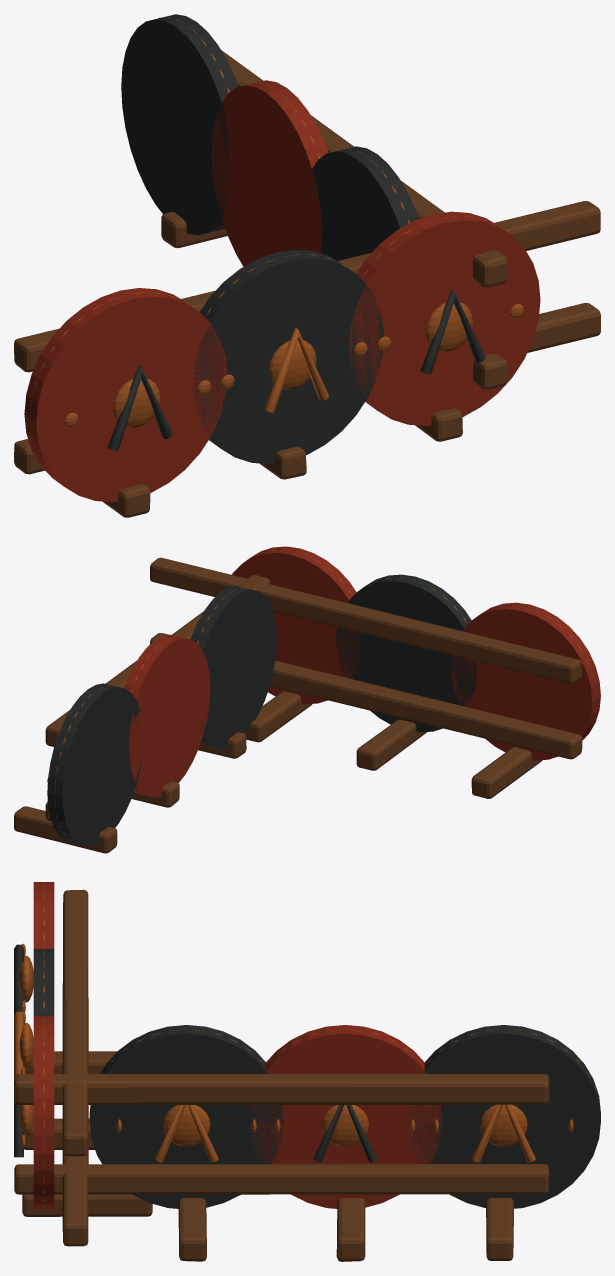
File: shield_barricade_corner_LOD0.glb
3 views of the same model, one above another, from view 1: azimuth 30°, elevation 25°; view 2: azimuth 150°, elevation 25°; view 3: azimuth 270°, elevation 25° (orthographic). The views are drawn at different scales.
Parts seen in each view (by area): view 1: CornerShieldX_ConvexDisk, CornerShieldX_ConvexDisk.001, CornerShieldX_ConvexDisk.002, CornerShieldY_ConvexDisk.002, CornerShieldY_ConvexDisk.001, CornerShieldY_ConvexDisk, CornerRearRailX.001, CornerRearRailX, CornerRearRailY.001, CornerShieldX_Lambda.001, CornerShieldX_Lambda.002, CornerShieldX_Lambda (+8 smaller); view 2: CornerShieldX_ConvexDisk, CornerShieldY_ConvexDisk.002, CornerShieldX_ConvexDisk.001, CornerRearRailX.001, CornerShieldY_ConvexDisk.001, CornerShieldY_ConvexDisk, CornerRearRailX, CornerShieldX_ConvexDisk.002, CornerGroundFoot, CornerGroundFoot.001, CornerGroundFoot.005, CornerGroundFoot.002 (+3 smaller); view 3: CornerShieldY_ConvexDisk.002, CornerShieldY_ConvexDisk, CornerShieldY_ConvexDisk.001, CornerRearRailY.001, CornerRearRailY, CornerRearRailX.001, CornerShieldX_ConvexDisk.002, CornerRearRailX, CornerGroundFoot.002, CornerGroundFoot.004, CornerGroundFoot.003, CornerGroundFoot.005 (+14 smaller).
Part boxes in pixels (x1,y1,x2,y2): CornerShieldX_ConvexDisk: [24, 288, 227, 502]; CornerShieldX_ConvexDisk.001: [193, 249, 383, 463]; CornerShieldX_ConvexDisk.002: [349, 211, 540, 425]; CornerShieldY_ConvexDisk.002: [121, 14, 238, 235]; CornerShieldY_ConvexDisk.001: [211, 80, 328, 266]; CornerShieldY_ConvexDisk: [312, 146, 418, 260]; CornerRearRailX.001: [14, 201, 600, 372]; CornerRearRailX: [14, 302, 600, 474]; CornerRearRailY.001: [221, 50, 507, 287]; CornerShieldX_Lambda.001: [264, 327, 329, 412]; CornerShieldX_Lambda.002: [420, 289, 485, 374]; CornerShieldX_Lambda: [108, 365, 172, 450]; CornerShieldX_ConvexDisk: [451, 602, 600, 760]; CornerShieldY_ConvexDisk.002: [47, 683, 141, 846]; CornerShieldX_ConvexDisk.001: [336, 574, 476, 732]; CornerRearRailX.001: [150, 557, 582, 683]; CornerShieldY_ConvexDisk.001: [124, 634, 210, 797]; CornerShieldY_ConvexDisk: [190, 586, 276, 748]; CornerRearRailX: [150, 633, 582, 759]; CornerShieldX_ConvexDisk.002: [232, 546, 361, 704]; CornerGroundFoot: [471, 747, 542, 798]; CornerGroundFoot.001: [356, 719, 426, 770]; CornerGroundFoot.005: [14, 806, 117, 853]; CornerGroundFoot.002: [245, 691, 312, 742]; CornerShieldY_ConvexDisk.002: [407, 1025, 600, 1208]; CornerShieldY_ConvexDisk: [89, 1025, 283, 1208]; CornerShieldY_ConvexDisk.001: [249, 1025, 442, 1208]; CornerRearRailY.001: [14, 1074, 549, 1104]; CornerRearRailY: [14, 1164, 549, 1194]; CornerRearRailX.001: [63, 889, 88, 1156]; CornerShieldX_ConvexDisk.002: [33, 1016, 54, 1209]; CornerRearRailX: [62, 983, 88, 1246]; CornerGroundFoot.002: [22, 1194, 152, 1216]; CornerGroundFoot.004: [336, 1198, 365, 1261]; CornerGroundFoot.003: [178, 1198, 206, 1261]; CornerGroundFoot.005: [486, 1198, 513, 1260].
Size of the model in its own units: 2.98 by 1.05 by 2.96.
